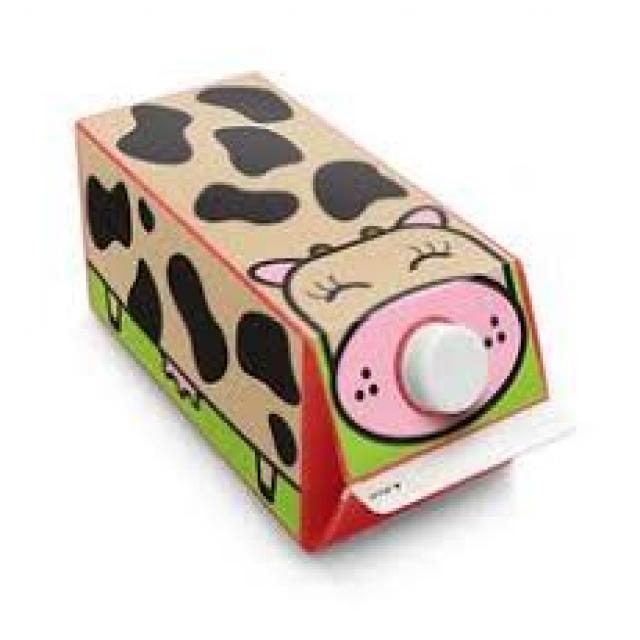non_white_jug: (54, 54, 544, 556)
